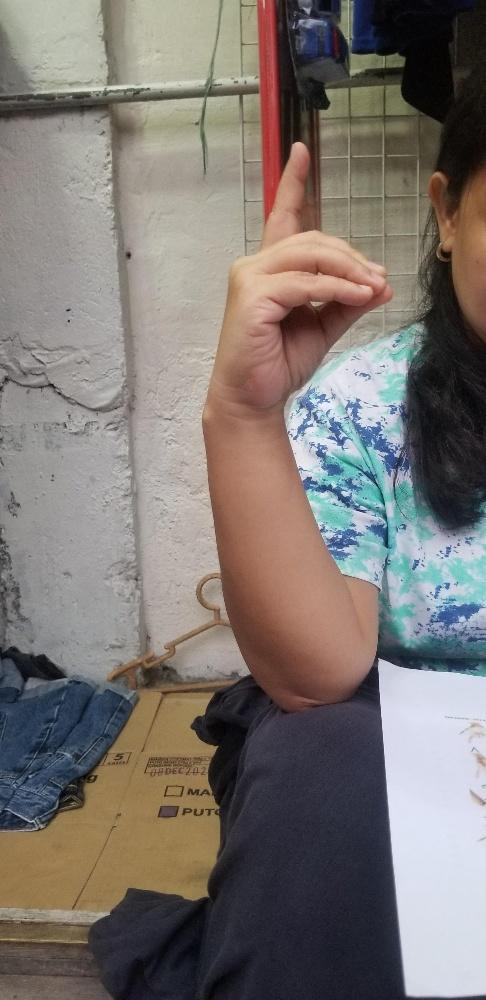d: (216, 141, 391, 403)
